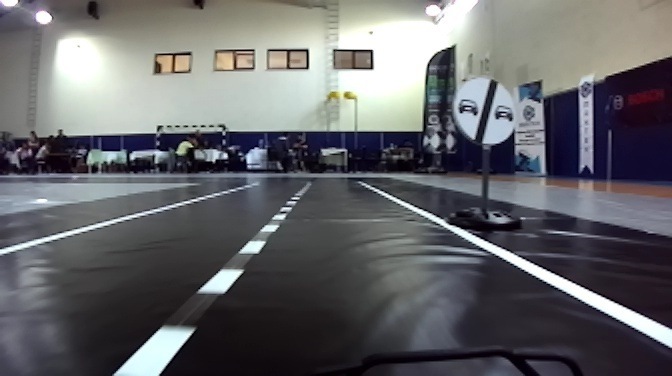sollama_serbest: (452, 77, 516, 144)
